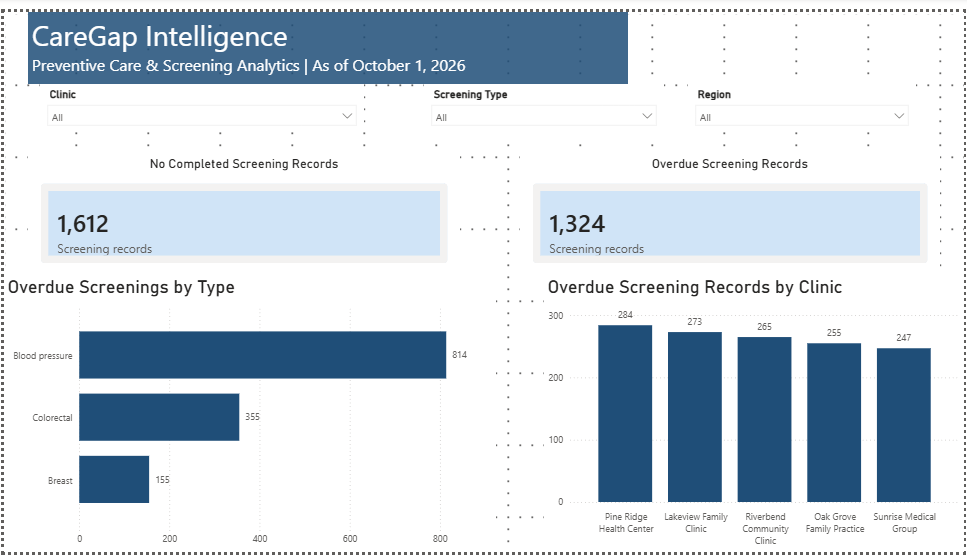

What the dashboard file says about the page in this screenshot:
{"tool":"powerbi","page":{"name":"CareGap Intelligence","canvas":[1280,720],"ordinal":0},"visuals":[{"type":"cardVisual","title":"Overdue Screening Records","fields":{"Data":["CountNonNull(CAREGAP_GAP_ANALYSIS.PATIENT_ID)"]},"box":[688,192,560,160],"z":0},{"type":"cardVisual","title":"No Completed Screening Records","fields":{"Data":["CountNonNull(CAREGAP_GAP_ANALYSIS.PATIENT_ID)"]},"box":[32,192,576,160],"z":1000},{"type":"clusteredBarChart","title":"Overdue Screenings by Type","fields":{"Y":["CountNonNull(CAREGAP_GAP_ANALYSIS.PATIENT_ID)"],"Category":["CAREGAP_GAP_ANALYSIS.Screening label"]},"box":[0,352,656,368],"z":2000},{"type":"clusteredColumnChart","title":"Overdue Screening Records by Clinic","fields":{"Category":["CAREGAP_GAP_ANALYSIS.CLINIC_NAME"],"Y":["CountNonNull(CAREGAP_GAP_ANALYSIS.PATIENT_ID)"]},"box":[720,352,560,368],"z":3000},{"type":"textbox","box":[32,0,800,96],"z":4000},{"type":"slicer","fields":{"Values":["Clinic_Lookup.CLINIC_NAME"]},"box":[48,96,432,64],"z":5000},{"type":"slicer","fields":{"Values":["CAREGAP_GAP_ANALYSIS.Screening label"]},"box":[560,96,320,80],"z":6000},{"type":"slicer","fields":{"Values":["CAREGAP_GAP_ANALYSIS.REGION"]},"box":[912,96,304,64],"z":7000}]}

Visuals, with their boxes in screenshot pixels (x1, y1, x2, y2), scaled from the page's 1280x720 canvas onto the 967x555 screenshot:
"Overdue Screening Records" cardVisual: pyautogui.locateOnScreen(520, 148, 943, 271)
"No Completed Screening Records" cardVisual: pyautogui.locateOnScreen(24, 148, 459, 271)
"Overdue Screenings by Type" clusteredBarChart: pyautogui.locateOnScreen(0, 271, 496, 554)
"Overdue Screening Records by Clinic" clusteredColumnChart: pyautogui.locateOnScreen(544, 271, 966, 554)
textbox: pyautogui.locateOnScreen(24, 0, 629, 74)
slicer - Clinic_Lookup.CLINIC_NAME: pyautogui.locateOnScreen(36, 74, 363, 123)
slicer - CAREGAP_GAP_ANALYSIS.Screening label: pyautogui.locateOnScreen(423, 74, 665, 136)
slicer - CAREGAP_GAP_ANALYSIS.REGION: pyautogui.locateOnScreen(689, 74, 919, 123)
